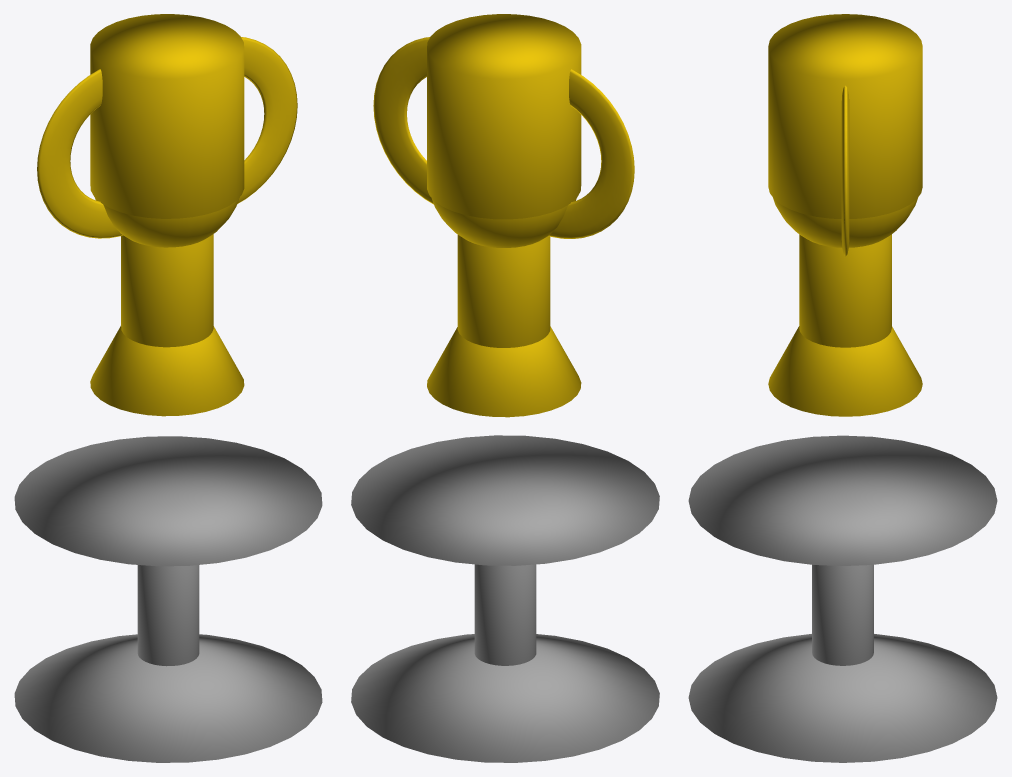
Rendered from Trophy.fbx.
3 renders of one model, left to right at view 1: azimuth 30°, elevation 25°; view 2: azimuth 150°, elevation 25°; view 3: azimuth 270°, elevation 25°, orthographic.
Visible parts, largest first — view 1: Trophy; view 2: Trophy; view 3: Trophy.
Boxes of the visible parts, x1,y1,x2,y2 form: Trophy: (14, 14, 322, 762); Trophy: (351, 14, 659, 762); Trophy: (688, 14, 997, 762).
Bounding box in the file's own units: 1000 × 2325 × 1000.
